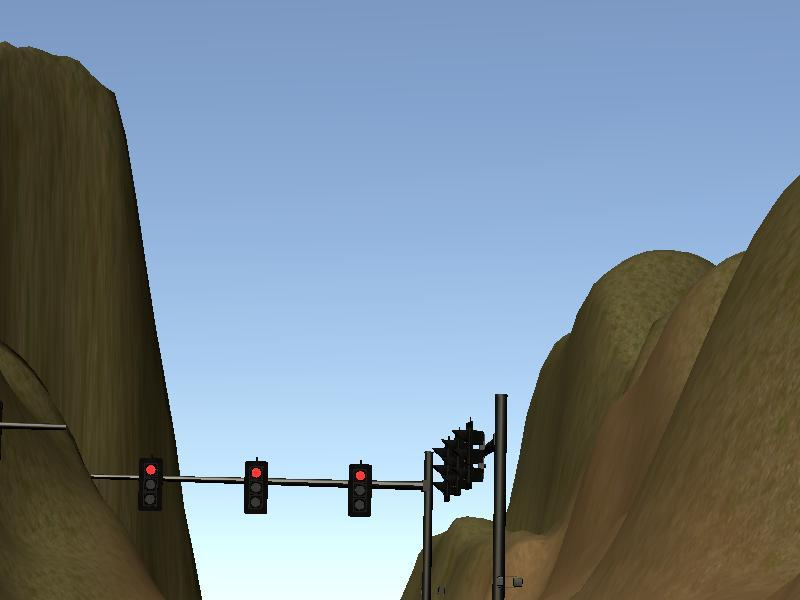Red: (137, 458, 164, 511), (243, 460, 268, 514), (347, 464, 372, 517)
